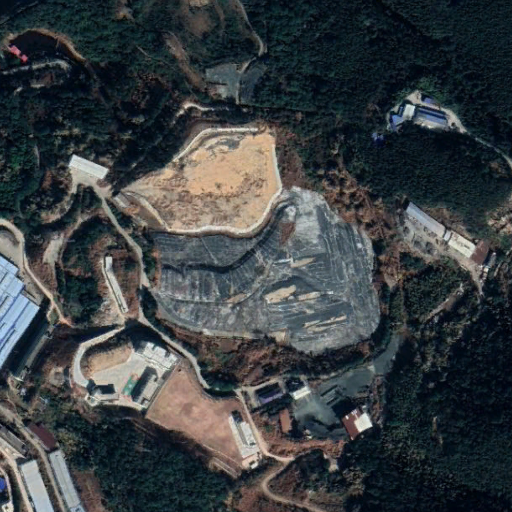lf: (117, 128, 381, 350)
